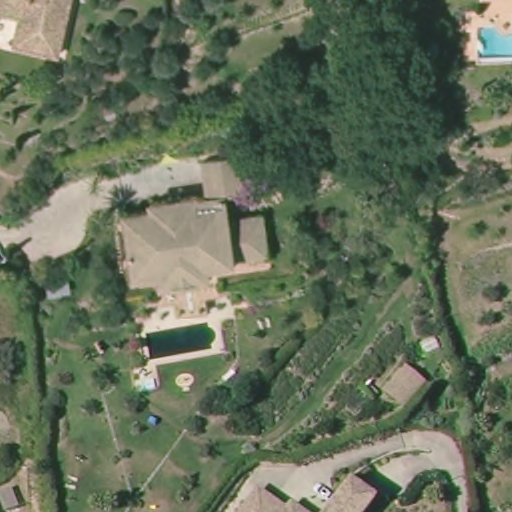pool: (143, 319, 216, 363), (470, 20, 511, 66)
